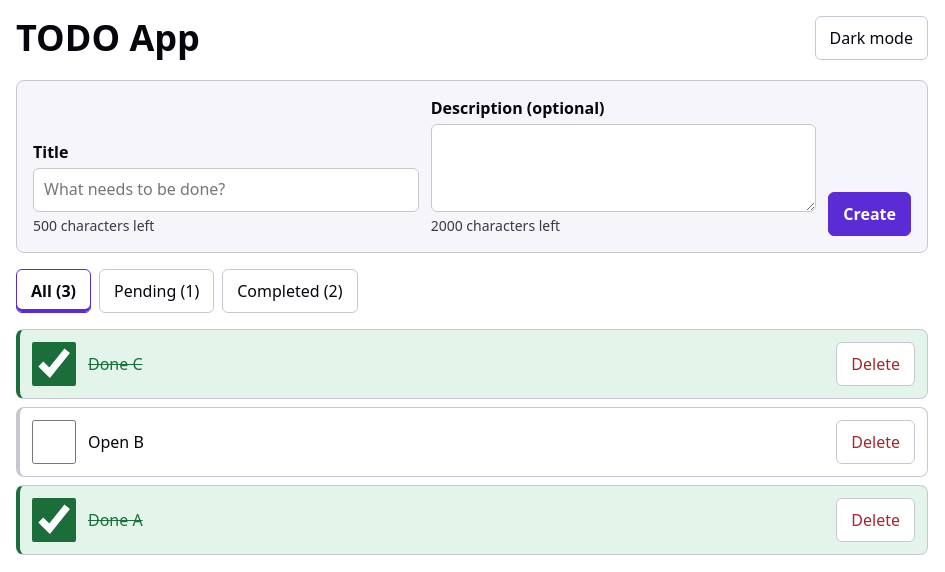
Scenario: Feature: Task management (acceptance scenarios) › Scenario: Filter tasks by status (FR4 / AC4) › shows only completed tasks with the correct count when Completed is selected
The width and height of the screenshot is (945, 572).
# When the user selects the Completed filter
What coordinates should you click on to do the following:
click the button with test id "filter-completed"
I would click on:
 (290, 291)
Its box is [222,269,358,313].
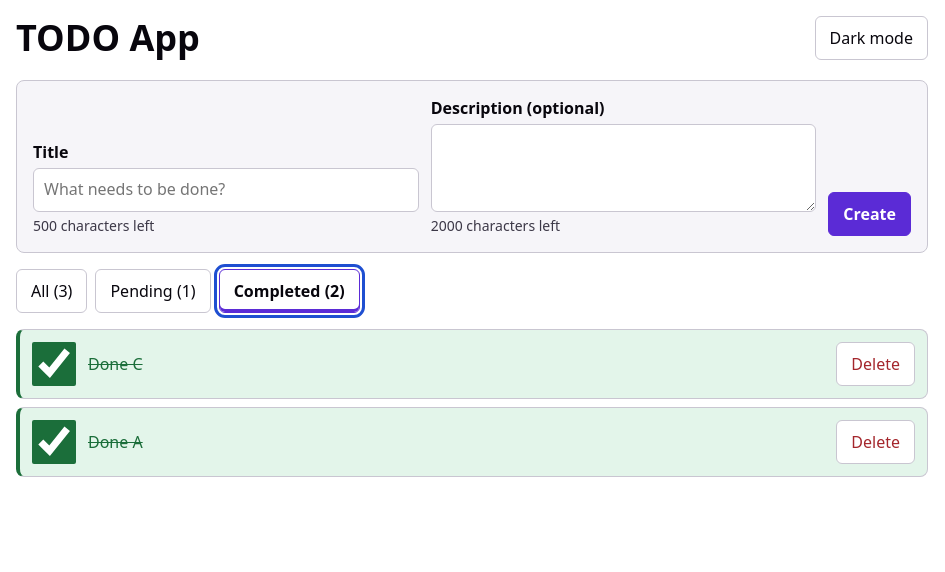
Expected: the button with test id "filter-completed" shows "2", [219,269,360,313]
Expected: the elements with test id "task-title" read "Done C", "Done A", in this order, [88,342,142,386]; [88,420,143,464]
